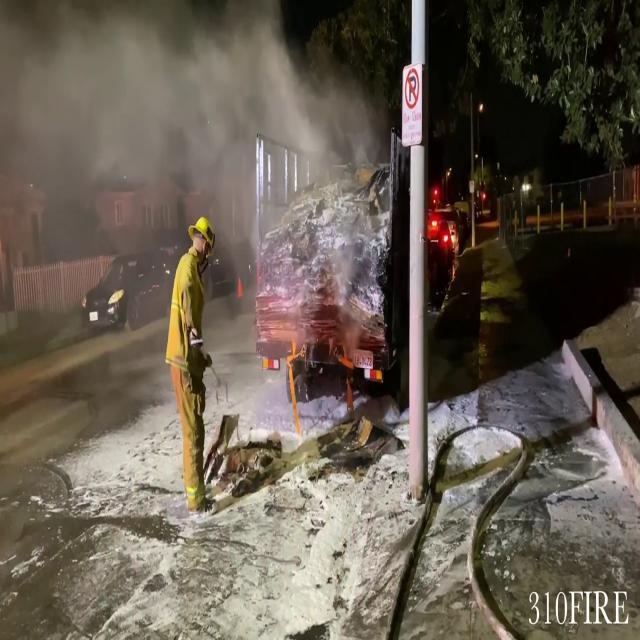Smoke: (0, 0, 384, 224)
